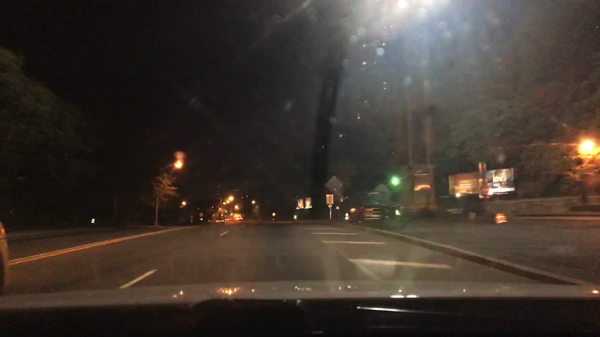car: (346, 196, 403, 228), (0, 222, 12, 295), (214, 219, 224, 224), (224, 218, 231, 222), (235, 218, 244, 220)
traffic sign: (324, 176, 344, 195), (324, 194, 333, 203), (198, 212, 204, 217)
